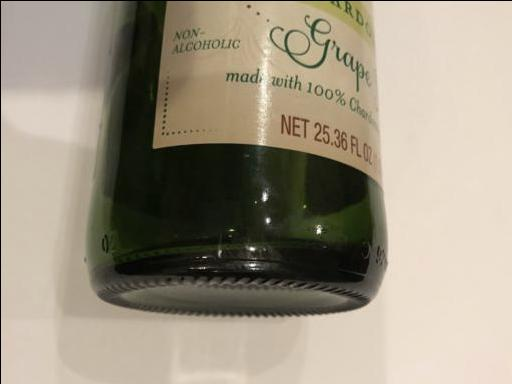alcohol: (83, 1, 389, 320)
glass: (83, 1, 389, 320)
sodocalcique: (83, 1, 389, 320)
